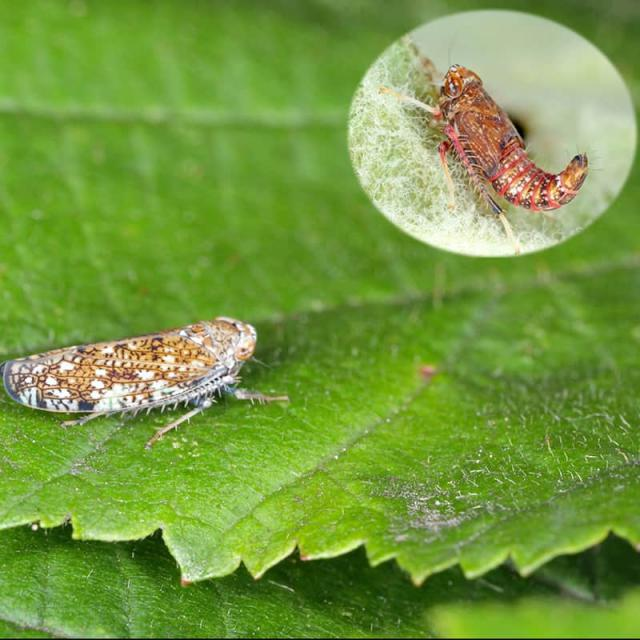Yechan: (0, 311, 276, 431)
